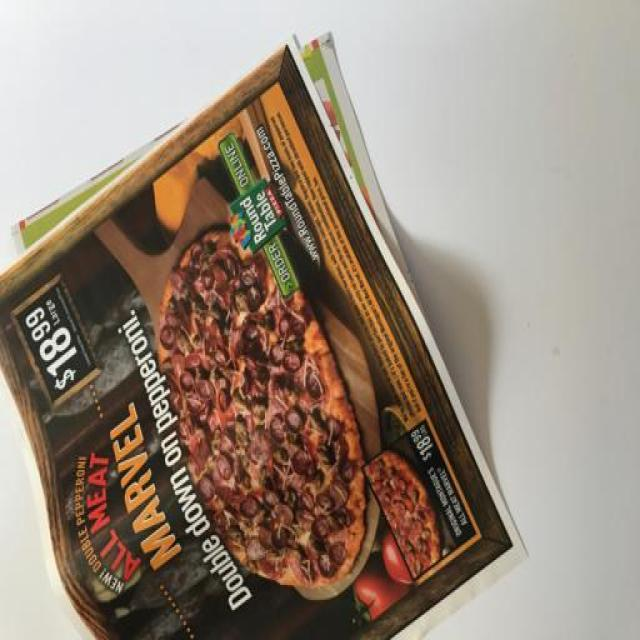paper: (0, 29, 529, 638)
